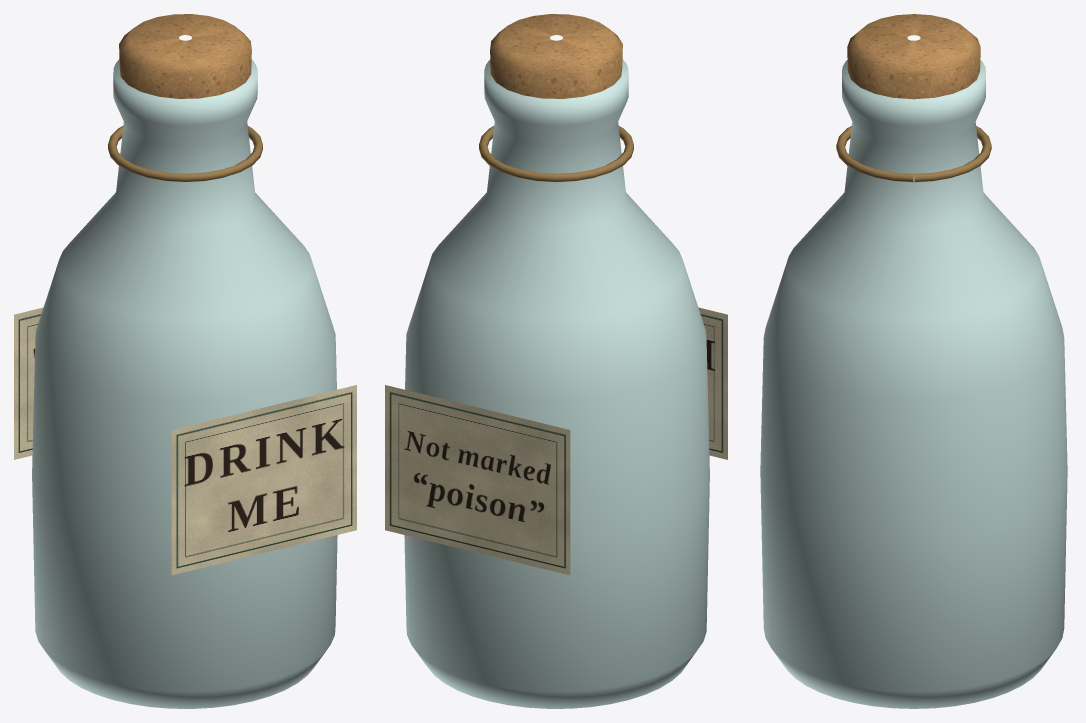
The model's file is prop_bottle_drinkme.glb.
3 renders of one model, left to right at view 1: azimuth 30°, elevation 25°; view 2: azimuth 150°, elevation 25°; view 3: azimuth 270°, elevation 25°, orthographic.
Visible parts, largest first — view 1: prop_bottle_drinkme, Front_Label, Back_Label; view 2: prop_bottle_drinkme, Back_Label, Front_Label; view 3: prop_bottle_drinkme.
Part boxes in pixels (bbox=[...]): prop_bottle_drinkme: bbox=[32, 14, 337, 708]; Front_Label: bbox=[171, 385, 356, 575]; Back_Label: bbox=[14, 307, 43, 459]; prop_bottle_drinkme: bbox=[404, 14, 709, 708]; Back_Label: bbox=[385, 385, 570, 575]; Front_Label: bbox=[698, 307, 727, 459]; prop_bottle_drinkme: bbox=[760, 14, 1067, 708].
Bounding box in the file's own units: 0.046 × 0.1015 × 0.0472.
6 materials, 3 textured.
